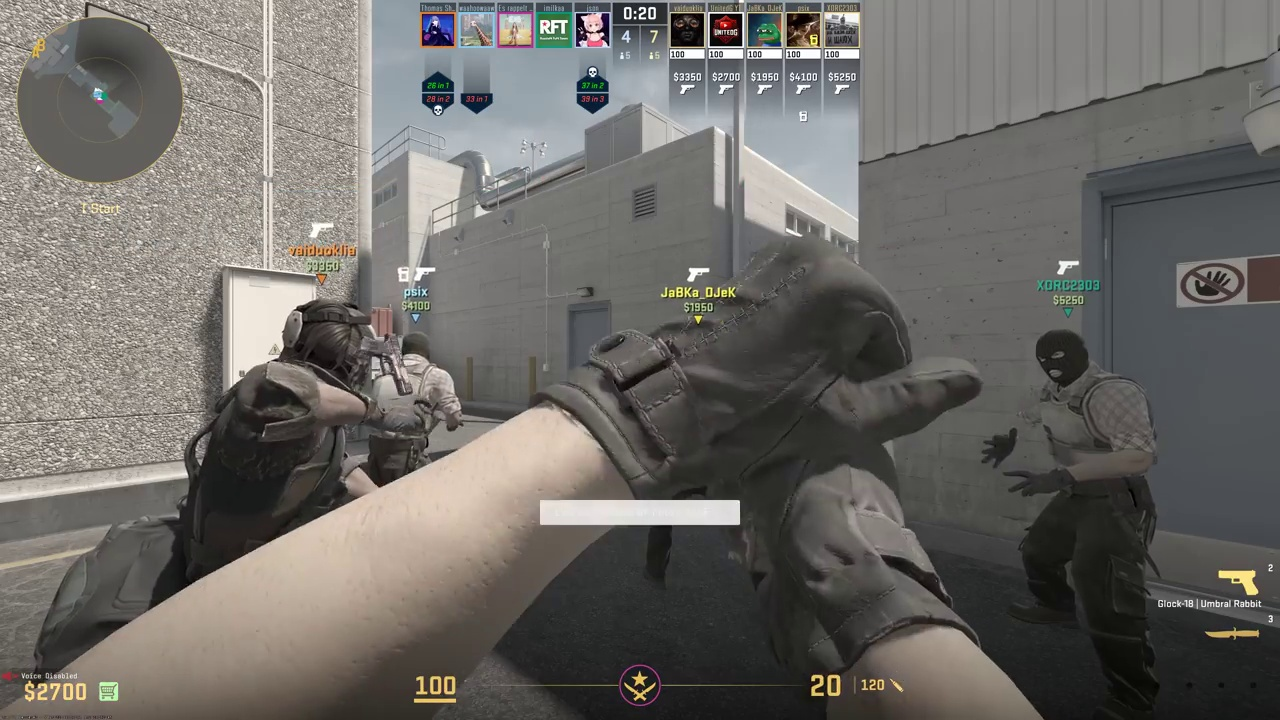Terrorist: (1012, 329, 1159, 711), (184, 299, 376, 568), (377, 331, 450, 488)
